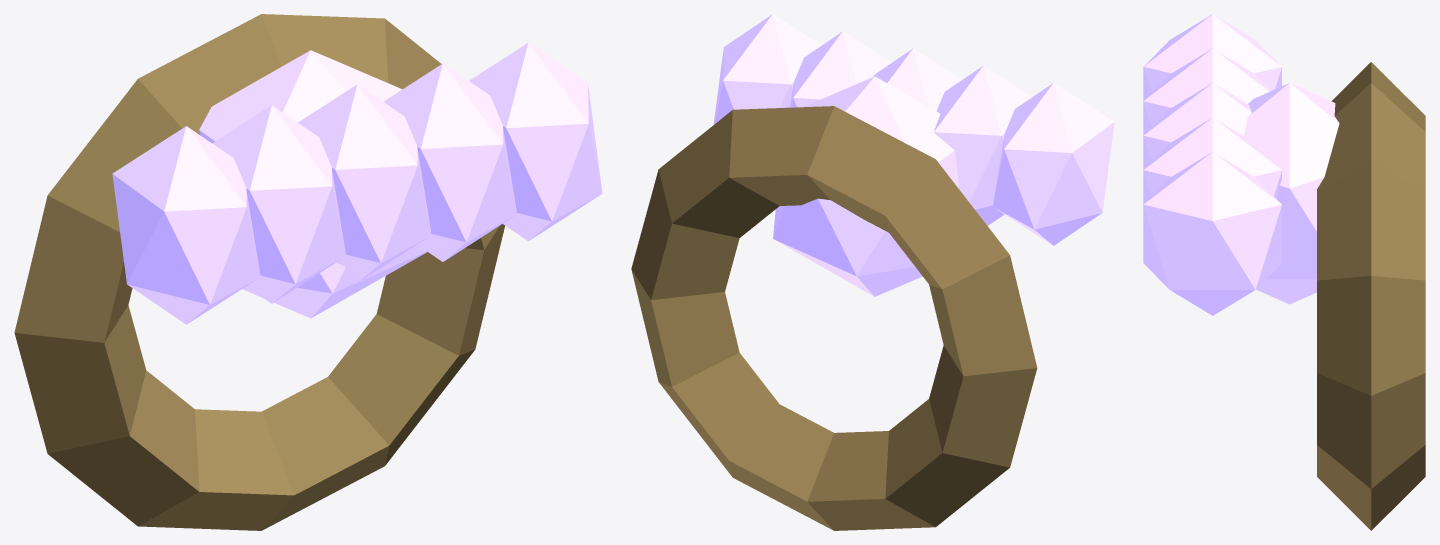
File: gear_ringRight.glb
The picture shows the model from 3 angles, left to right: view 1: azimuth 30°, elevation 25°; view 2: azimuth 150°, elevation 25°; view 3: azimuth 270°, elevation 25°; orthographic projection. The views are drawn at different scales.
Visible parts, largest first — view 1: Engraved ring.001, Jewelled setting.005, Jewelled setting.009, Jewelled setting.006, Jewelled setting.008, Jewelled setting.007, Ring stone.001; view 2: Engraved ring.001, Jewelled setting.005, Ring stone.001, Jewelled setting.006, Jewelled setting.009, Jewelled setting.008, Jewelled setting.007; view 3: Engraved ring.001, Jewelled setting.009, Ring stone.001, Jewelled setting.008, Jewelled setting.005, Jewelled setting.006, Jewelled setting.007.
Part boxes in pixels (x1,y1,x2,y2): Engraved ring.001: (14,14,504,530); Jewelled setting.005: (112,126,260,324); Jewelled setting.009: (469,42,602,241); Jewelled setting.006: (212,105,345,303); Jewelled setting.008: (383,63,516,261); Jewelled setting.007: (298,84,431,281); Ring stone.001: (199,50,427,318); Engraved ring.001: (631,106,1037,530); Jewelled setting.005: (993,82,1114,245); Ring stone.001: (773,76,959,296); Jewelled setting.006: (934,65,1031,225); Jewelled setting.009: (713,14,821,124); Jewelled setting.008: (789,31,891,107); Jewelled setting.007: (873,48,961,111); Engraved ring.001: (1317,62,1425,530); Jewelled setting.009: (1143,152,1281,315); Ring stone.001: (1244,83,1339,304); Jewelled setting.008: (1143,117,1281,203); Jewelled setting.005: (1143,14,1281,100); Jewelled setting.006: (1143,48,1271,135); Jewelled setting.007: (1143,83,1251,169).
Size of the model in its own units: 0.104 by 0.104 by 0.0623.
